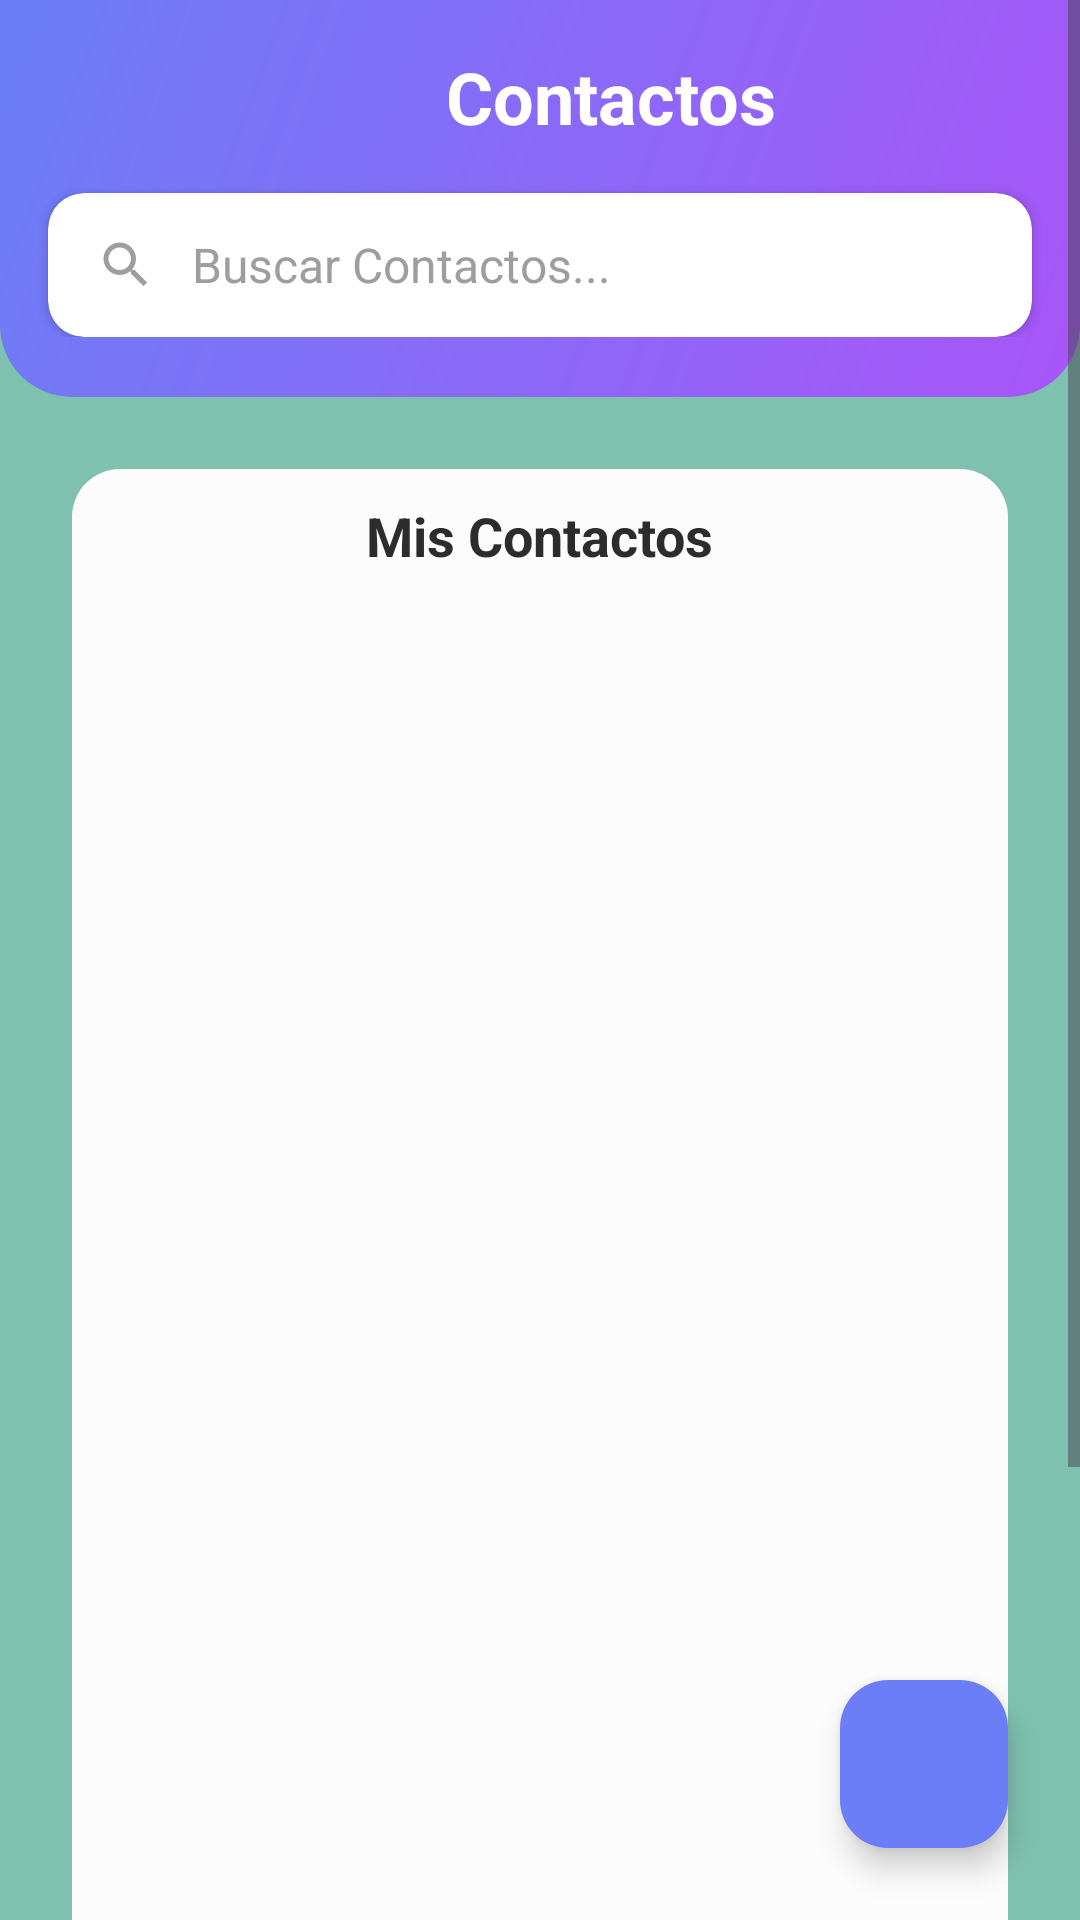

Named icons in this screenshot (1080px×1920px) and their bounding boxes, {"left": x1, "top": y1, "right": x2, "bottom": y2}:
search: {"left": 103, "top": 242, "right": 147, "bottom": 286}
